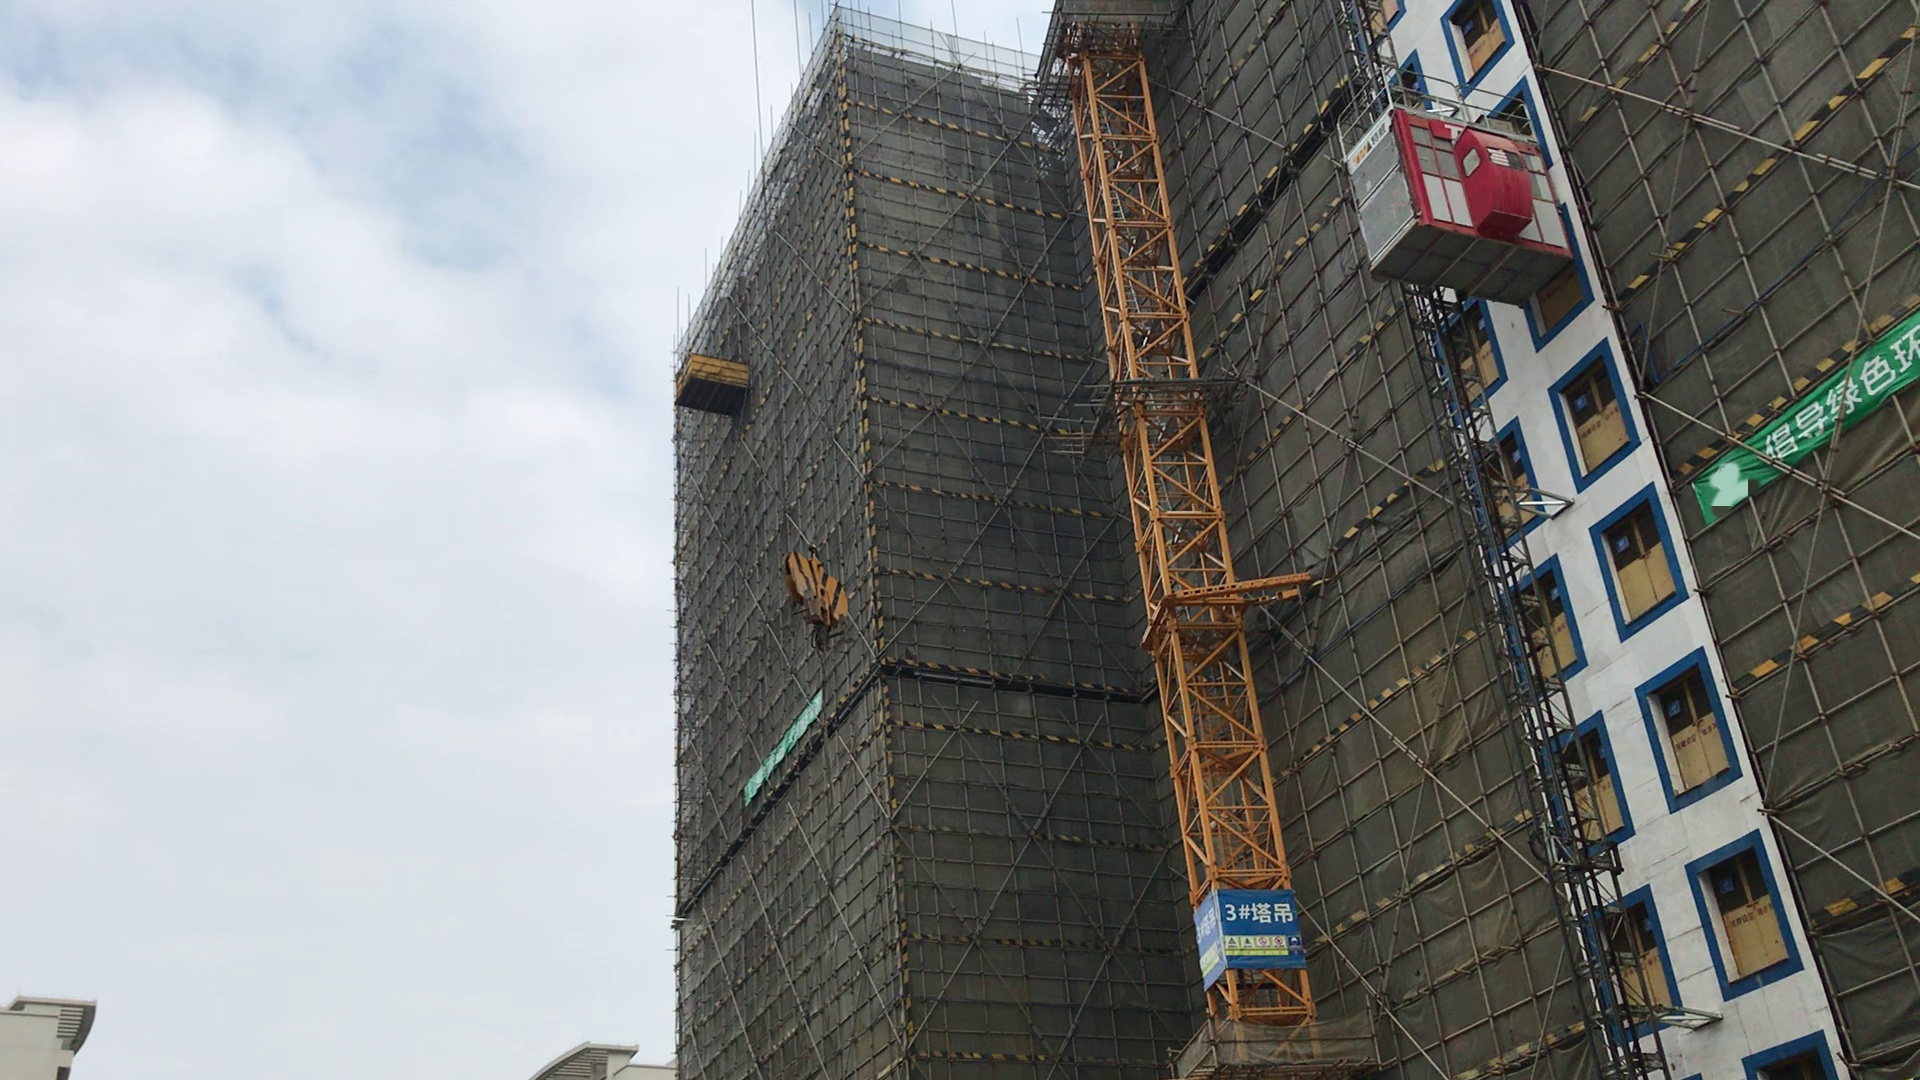hook: (781, 537, 851, 647)
slogan: (1695, 319, 1915, 526)
